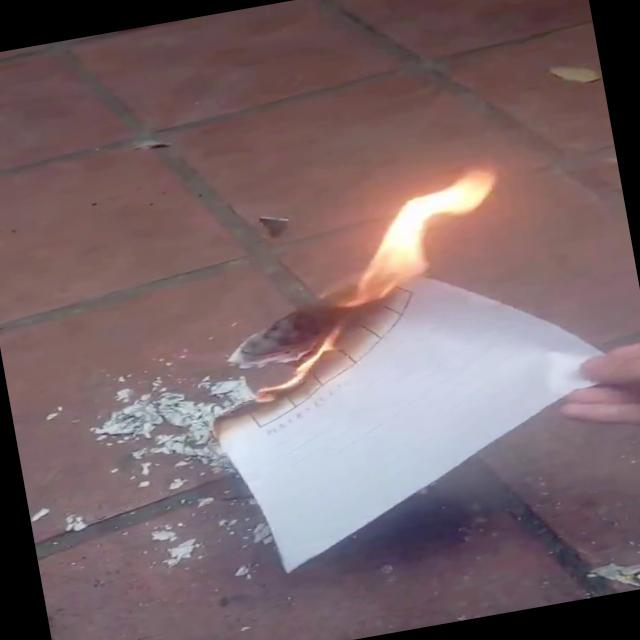Fire_Dangerous: (212, 158, 524, 410)
